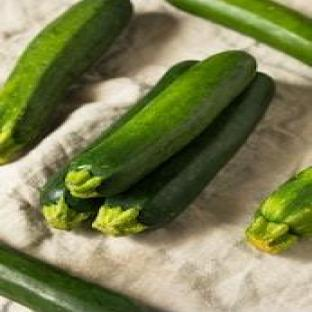Zucchini: (92, 74, 274, 236), (65, 51, 256, 197), (0, 245, 146, 311), (101, 60, 196, 139), (246, 167, 311, 254)
